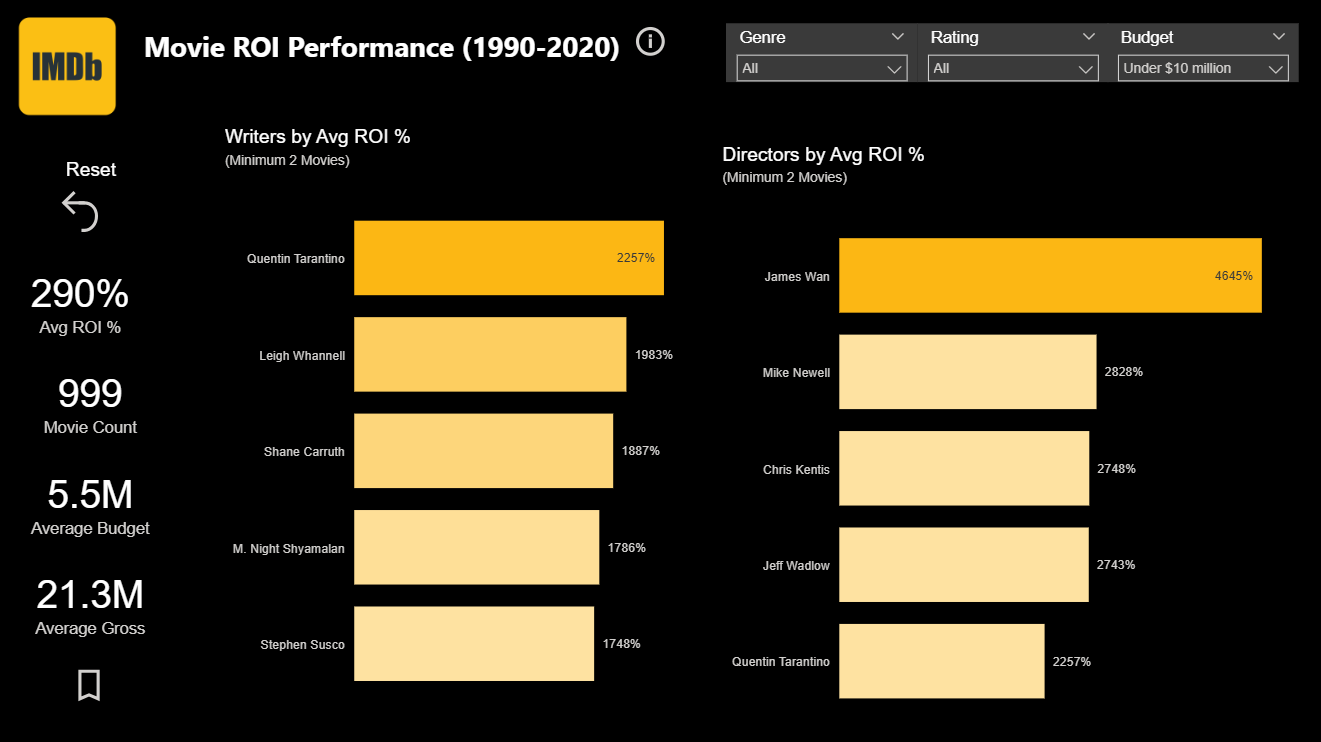

This screenshot's page, from the dashboard's own definition file:
{"tool":"powerbi","page":{"name":"Writers & Directors","canvas":[1280,720],"ordinal":1},"visuals":[{"type":"image","box":[9.7,9.7,118.2,114.6],"z":0},{"type":"textbox","box":[137.5,24.1,475.3,49.5],"z":1000},{"type":"barChart","title":"Directors by Avg ROI %","fields":{"Category":["vw_MovieROI_Fact.director"],"Y":["vw_MovieROI_Fact.Portfolio ROI %"]},"box":[695.9,140.6,574.9,580.2],"z":2000},{"type":"slicer","fields":{"Values":["vw_MovieROI_Fact.genre"]},"box":[704.1,24.9,185.1,57],"z":3000},{"type":"slicer","fields":{"Values":["vw_MovieROI_Fact.rating"]},"box":[889.2,24.9,185.1,57],"z":4000},{"type":"slicer","fields":{"Values":["vw_MovieROI_Fact.budget_category"]},"box":[1072.5,24.9,185.1,57],"z":5000},{"type":"card","fields":{"Values":["vw_MovieROI_Fact.Portfolio ROI %"]},"box":[0,245.3,163,96.7],"z":6000},{"type":"card","fields":{"Values":["vw_MovieROI_Fact.Average Budget"]},"box":[10.1,438.6,163,96.7],"z":7000},{"type":"card","fields":{"Values":["vw_MovieROI_Fact.Average Gross"]},"box":[10.1,535.3,163,96.7],"z":8000},{"type":"card","fields":{"Values":["vw_MovieROI_Fact.Movie Count"]},"box":[10.1,341.9,163,96.7],"z":9000},{"type":"barChart","title":"Writers by Avg ROI %","fields":{"Category":["vw_MovieROI_Fact.writer"],"Y":["vw_MovieROI_Fact.Portfolio ROI %"]},"box":[216,124.3,477.8,580.3],"z":10000},{"type":"actionButton","title":"Reset","box":[55.5,155.6,72.4,77.2],"z":11000},{"type":"actionButton","box":[612.9,24.1,43.4,37.4],"z":12000},{"type":"actionButton","box":[70,644.2,43.4,39.8],"z":13000}]}

Visuals, with their boxes in screenshot pixels (x1, y1, x2, y2), scaled from the page's 1280x720 canvas onto the 1321x742 screenshot:
image: left=10, top=10, right=132, bottom=128
textbox: left=142, top=25, right=632, bottom=76
"Directors by Avg ROI %" barChart: left=718, top=145, right=1312, bottom=741
slicer - vw_MovieROI_Fact.genre: left=727, top=26, right=918, bottom=84
slicer - vw_MovieROI_Fact.rating: left=918, top=26, right=1109, bottom=84
slicer - vw_MovieROI_Fact.budget_category: left=1107, top=26, right=1298, bottom=84
card - vw_MovieROI_Fact.Portfolio ROI %: left=0, top=253, right=168, bottom=352
card - vw_MovieROI_Fact.Average Budget: left=10, top=452, right=179, bottom=552
card - vw_MovieROI_Fact.Average Gross: left=10, top=552, right=179, bottom=651
card - vw_MovieROI_Fact.Movie Count: left=10, top=352, right=179, bottom=452
"Writers by Avg ROI %" barChart: left=223, top=128, right=716, bottom=726
"Reset" actionButton: left=57, top=160, right=132, bottom=240
actionButton: left=633, top=25, right=677, bottom=63
actionButton: left=72, top=664, right=117, bottom=705
